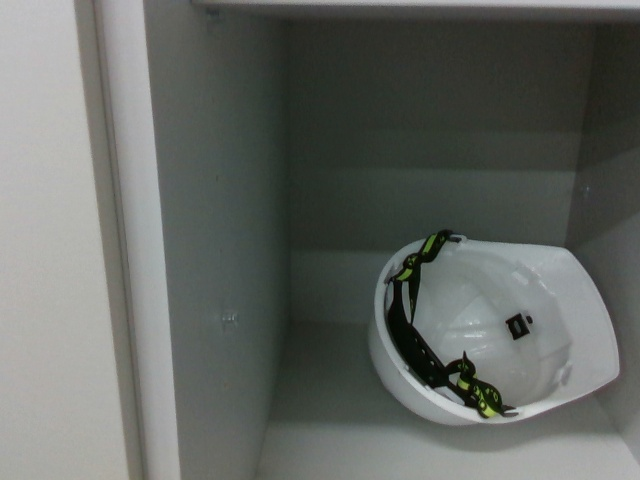helmet: (368, 224, 634, 436)
